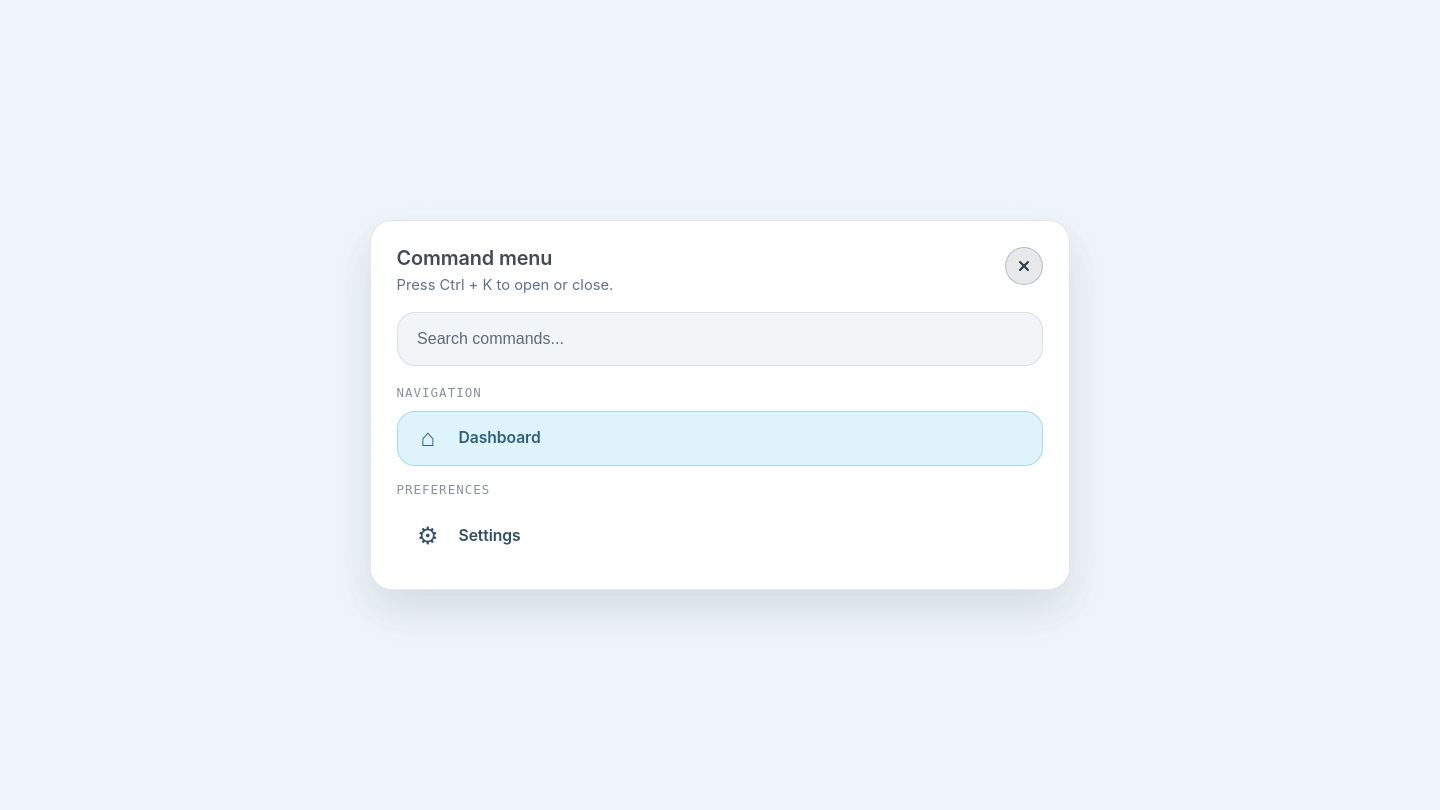
Test: CommandPalette › supports a custom empty state renderer
Type "zzz" into the dropdown with placeholder "Search commands..." at (720, 339), box [397,312,1043,366]
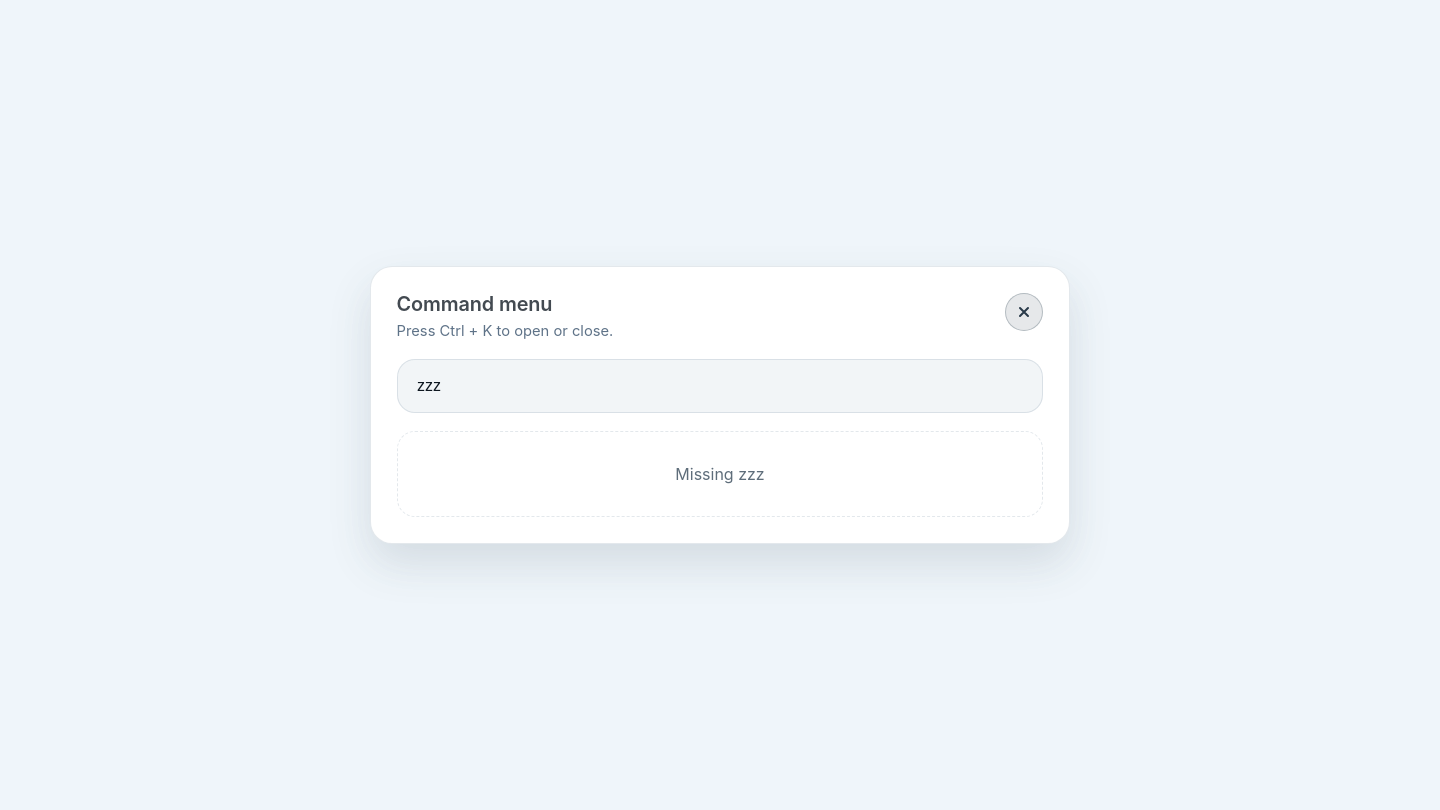
Expected: the text "Missing zzz" is shown, [675,464,765,484]
